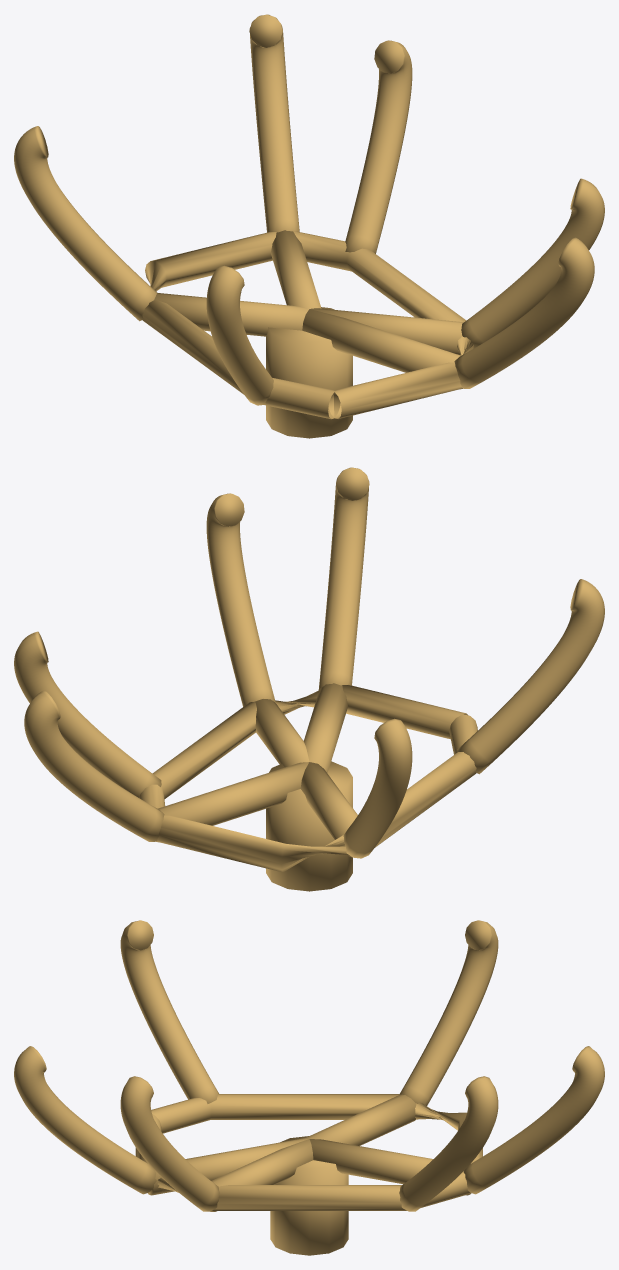
The model's file is stuller-lg-500106810-6-prong.glb.
3 renders of one model, top to bottom at view 1: azimuth 30°, elevation 25°; view 2: azimuth 150°, elevation 25°; view 3: azimuth 270°, elevation 25°, orthographic. The views are drawn at different scales.
Visible parts, largest first — view 1: Metal.251, Metal.258, Metal.257, Metal.256, Metal.260, Metal.250, Metal.261, Metal.259, Metal.255, Metal.254, Metal.252, Metal.253; view 2: Metal.251, Metal.259, Metal.260, Metal.261, Metal.257, Metal.256, Metal.250, Metal.258, Metal.253, Metal.255, Metal.254, Metal.252; view 3: Metal.251, Metal.258, Metal.259, Metal.260, Metal.257, Metal.256, Metal.261, Metal.250, Metal.253, Metal.254, Metal.252, Metal.255.
Boxes of the visible parts, bbox=[...] form: Metal.251: bbox=[142, 231, 473, 419]; Metal.258: bbox=[14, 126, 157, 321]; Metal.257: bbox=[249, 14, 299, 232]; Metal.256: bbox=[345, 40, 412, 253]; Metal.260: bbox=[454, 237, 594, 388]; Metal.250: bbox=[266, 307, 352, 438]; Metal.261: bbox=[461, 178, 604, 348]; Metal.259: bbox=[206, 265, 273, 405]; Metal.255: bbox=[302, 309, 462, 389]; Metal.254: bbox=[154, 293, 309, 336]; Metal.252: bbox=[310, 308, 463, 355]; Metal.253: bbox=[271, 230, 321, 308]; Metal.251: bbox=[139, 685, 477, 872]; Metal.259: bbox=[457, 579, 604, 774]; Metal.260: bbox=[318, 467, 369, 689]; Metal.261: bbox=[206, 493, 275, 706]; Metal.257: bbox=[24, 690, 164, 841]; Metal.256: bbox=[14, 631, 161, 797]; Metal.250: bbox=[266, 761, 352, 891]; Metal.258: bbox=[343, 718, 412, 858]; Metal.253: bbox=[156, 762, 309, 842]; Metal.255: bbox=[304, 683, 347, 772]; Metal.254: bbox=[300, 762, 357, 857]; Metal.252: bbox=[254, 699, 309, 767]; Metal.251: bbox=[135, 1094, 482, 1210]; Metal.258: bbox=[400, 920, 498, 1105]; Metal.259: bbox=[120, 920, 218, 1103]; Metal.260: bbox=[14, 1046, 156, 1194]; Metal.257: bbox=[463, 1046, 604, 1194]; Metal.256: bbox=[399, 1076, 498, 1211]; Metal.261: bbox=[120, 1076, 219, 1211]; Metal.250: bbox=[270, 1136, 348, 1255]; Metal.253: bbox=[309, 1139, 470, 1195]; Metal.254: bbox=[306, 1094, 416, 1145]; Metal.252: bbox=[210, 1139, 313, 1211]; Metal.255: bbox=[148, 1138, 308, 1195].
Bounding box in the file's own units: 6.27 × 4.06 × 9.04.
